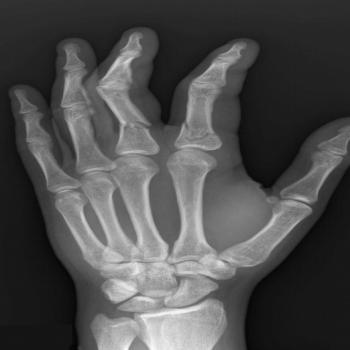Fracture: (174, 119, 228, 145), (110, 116, 162, 136)
